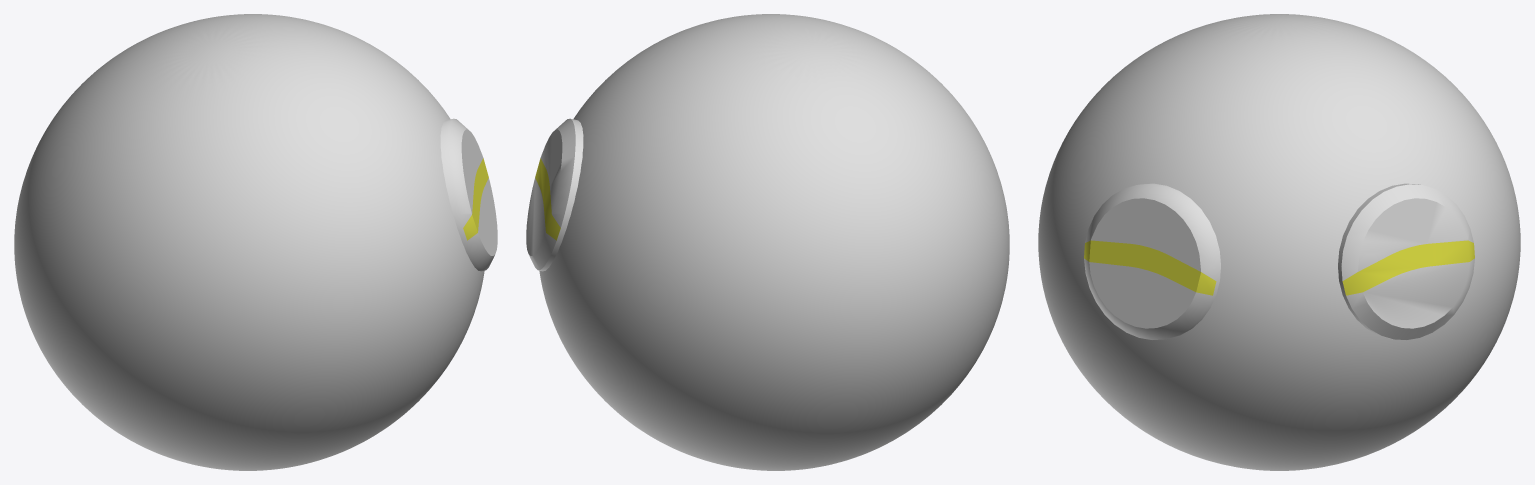
Rendered from RocaPersonaje.fbx.
3 renders of one model, left to right at view 1: azimuth 30°, elevation 25°; view 2: azimuth 150°, elevation 25°; view 3: azimuth 270°, elevation 25°, orthographic.
Visible parts, largest first — view 1: Sphere.001, Cylinder; view 2: Sphere.001, Cylinder; view 3: Sphere.001, Cylinder.
Boxes of the visible parts, <box> form: Sphere.001: <box>14,14,484,470</box>; Cylinder: <box>440,118,497,271</box>; Sphere.001: <box>539,14,1009,470</box>; Cylinder: <box>526,118,583,271</box>; Sphere.001: <box>1038,14,1520,470</box>; Cylinder: <box>1084,183,1474,339</box>.
Bounding box in the file's own units: 197 × 189 × 200.
